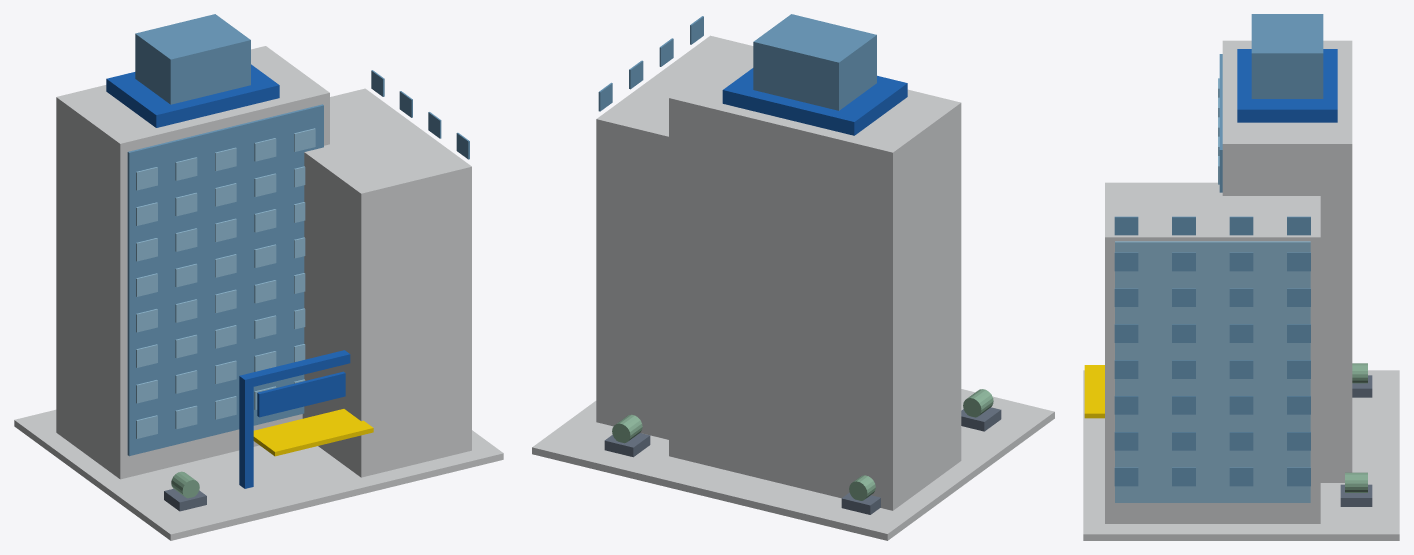
Rendered from crm.glb.
3 views of the same model, side by side, from view 1: azimuth 30°, elevation 25°; view 2: azimuth 150°, elevation 25°; view 3: azimuth 270°, elevation 25° (orthographic). The views are drawn at different scales.
Visible parts, largest first — view 1: wingB, facadeA, wingA, plaza, roof_glass, roof_terrace, yellow_canopy, sign, blue_portal_top, blue_portal_left, planter_-10_7; view 2: wingA, wingB, plaza, roof_glass, roof_terrace, planter_8_-8, planter_-10_7, plant_-10_7, plant_8_-8; view 3: facadeB, wingA, wingB, plaza, roof_glass, roof_terrace, yellow_canopy, facadeA, planter_8_-8, b_win_0_8.0, b_win_6_8.0, b_win_0_0.0 (+30 smaller).
Part boxes in pixels (x1,y1,x2,y2): wingB: (302, 88, 471, 477); facadeA: (127, 104, 323, 456); wingA: (56, 46, 329, 479); plaza: (14, 409, 503, 540); roof_glass: (135, 14, 250, 104); roof_terrace: (106, 64, 279, 127); yellow_canopy: (253, 409, 373, 456); sign: (257, 371, 345, 417); blue_portal_top: (239, 350, 350, 388); blue_portal_left: (239, 382, 253, 488); planter_-10_7: (164, 488, 206, 511); wingA: (669, 48, 961, 510); wingB: (596, 35, 753, 439); plaza: (532, 389, 1054, 540); roof_glass: (753, 14, 876, 110); roof_terrace: (722, 68, 907, 135); planter_8_-8: (604, 433, 650, 457); planter_-10_7: (961, 407, 1001, 431); plant_-10_7: (963, 389, 993, 417); plant_8_-8: (612, 414, 642, 443); facadeB: (1115, 241, 1310, 502); wingA: (1222, 40, 1352, 482); wingB: (1105, 182, 1320, 523); plaza: (1083, 370, 1399, 540); roof_glass: (1251, 14, 1323, 98); roof_terrace: (1237, 49, 1337, 122); yellow_canopy: (1084, 365, 1104, 418); facadeA: (1219, 54, 1222, 192); planter_8_-8: (1340, 484, 1372, 506); b_win_0_8.0: (1114, 467, 1138, 486); b_win_6_8.0: (1114, 252, 1138, 271); b_win_0_0.0: (1229, 467, 1253, 486).
Size of the model in its own units: 27 by 31 by 22.
